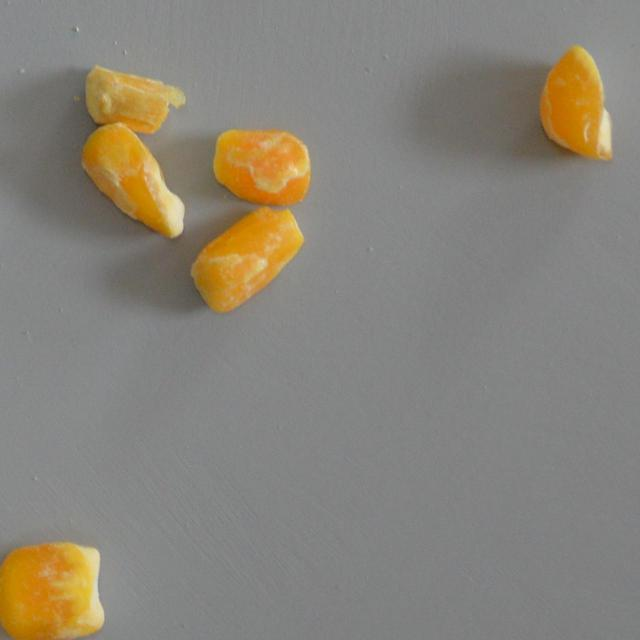pelicula: (188, 203, 305, 312), (78, 122, 186, 238), (0, 543, 106, 638), (538, 44, 612, 161), (212, 128, 310, 204), (80, 64, 171, 134)
